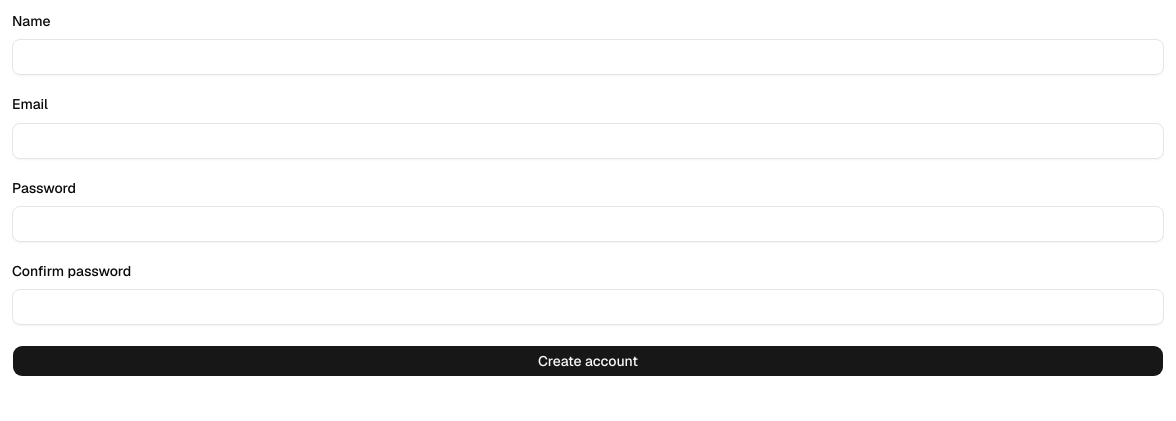
Test: RegisterForm › enforces matching password confirmation
Type "Ada Lovelace" into the field labelled "Name" at (588, 57), box x1=12 y1=39 x2=1164 y2=75
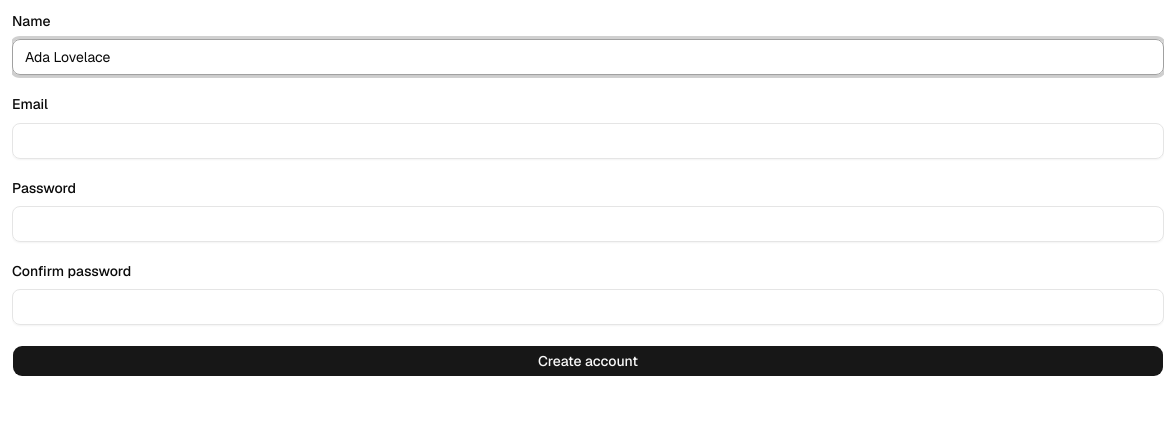
Type "ada@example.com" into the field labelled "Email" at (588, 140), box x1=12 y1=122 x2=1164 y2=158
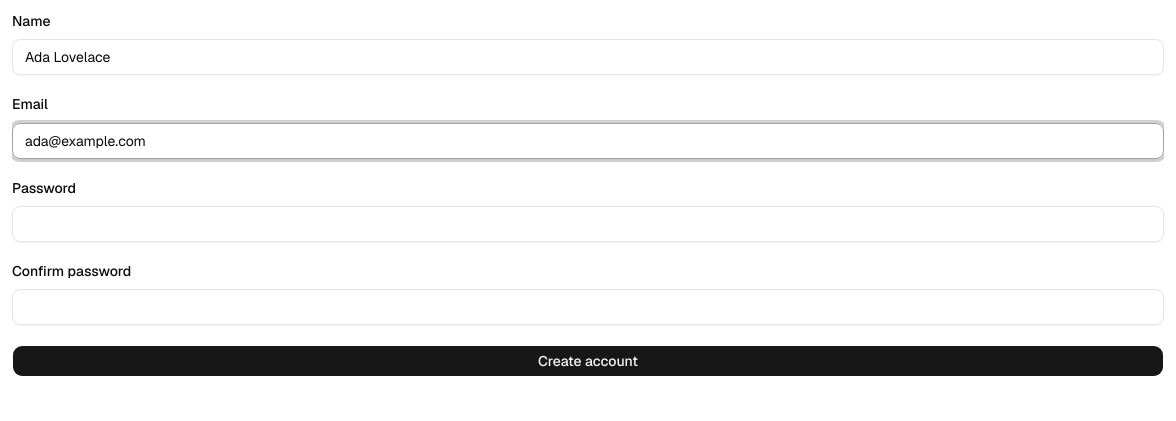
Type "supersecret1" into the password field labelled "Password" at (588, 224), box x1=12 y1=206 x2=1164 y2=242
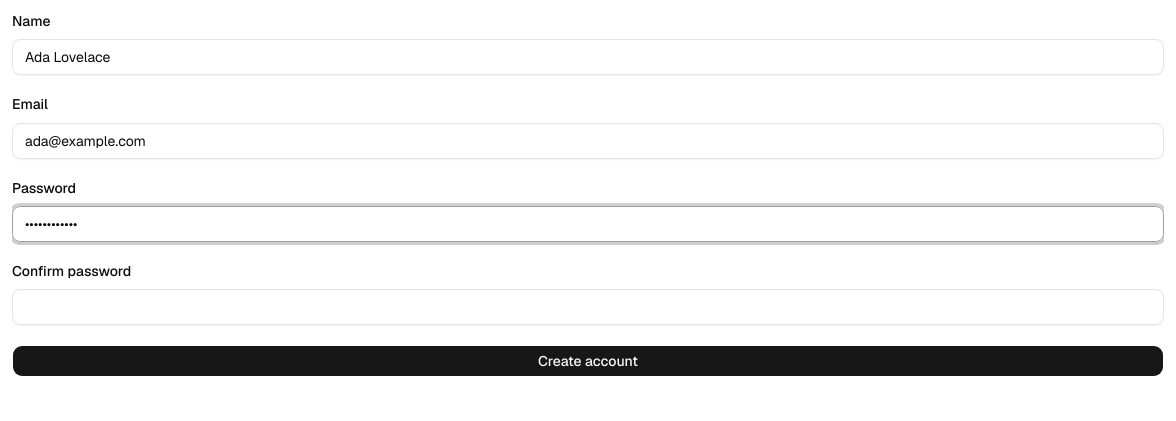
Type "different-pass" into the password field labelled "Confirm password" at (588, 307), box x1=12 y1=289 x2=1164 y2=325
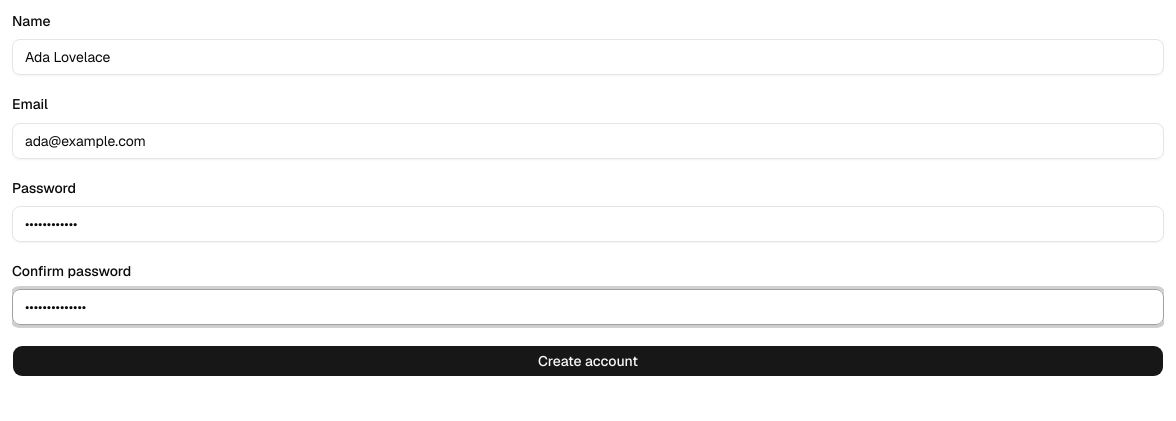
Click the button "Create account" at (588, 361), box x1=12 y1=345 x2=1164 y2=377
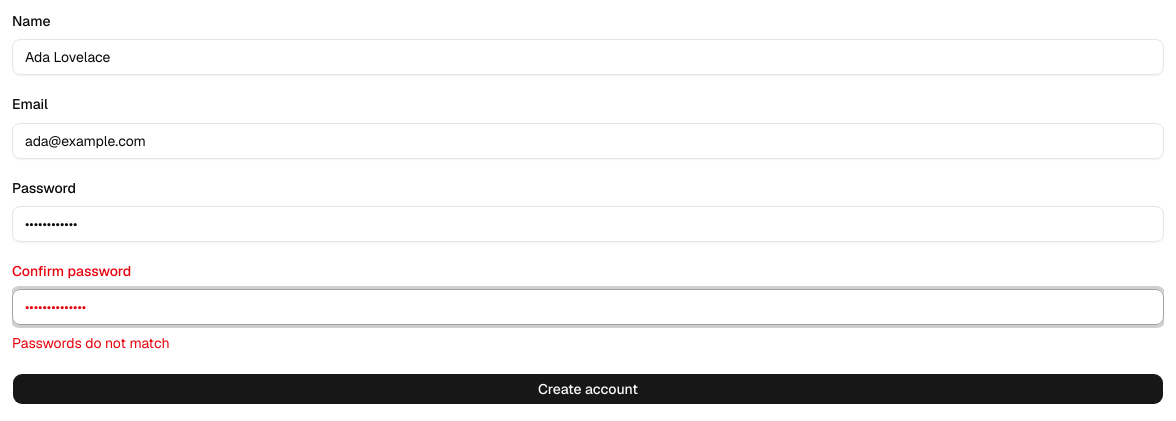
expect the text "Passwords do not match" is shown: met, box x1=12 y1=334 x2=170 y2=352
